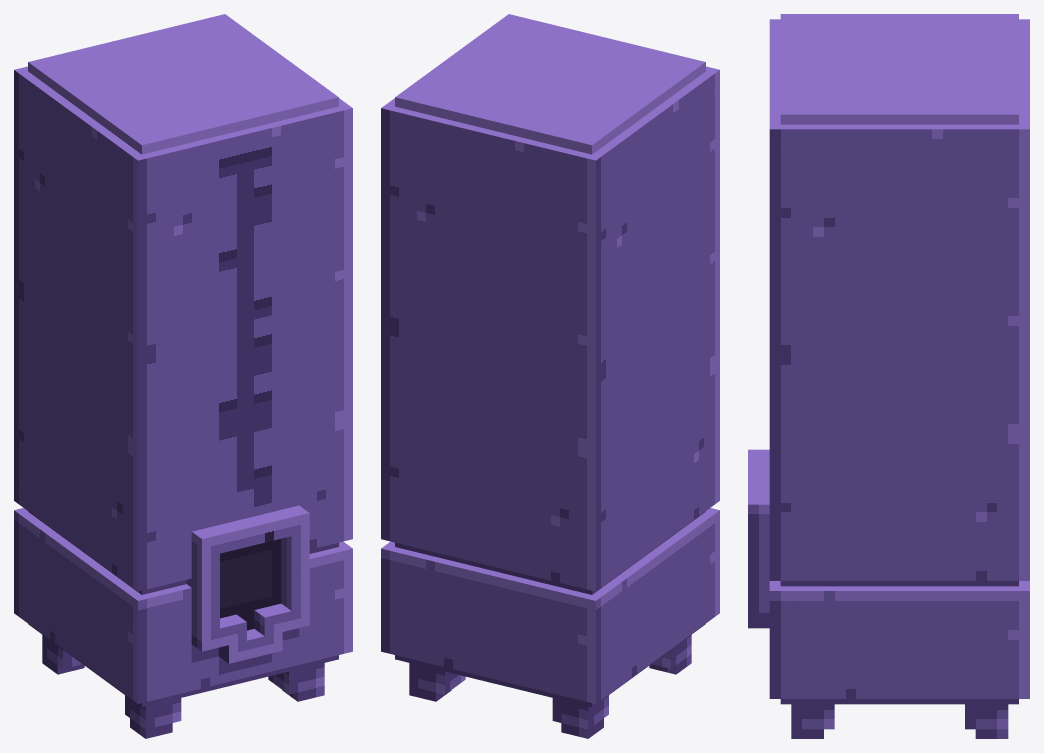
The model's file is sentinel_wallao.fezao.glb.
3 renders of one model, left to right at view 1: azimuth 30°, elevation 25°; view 2: azimuth 150°, elevation 25°; view 3: azimuth 270°, elevation 25°, orthographic. The views are drawn at different scales.
Visible parts, largest first — view 1: SENTINEL_WALLAO; view 2: SENTINEL_WALLAO; view 3: SENTINEL_WALLAO.
Part boxes in pixels (x1,y1,x2,y2): SENTINEL_WALLAO: (14, 14, 352, 738); SENTINEL_WALLAO: (381, 14, 719, 738); SENTINEL_WALLAO: (748, 14, 1029, 738).
Size of the model in its own units: 1.5 by 4 by 1.62.
1 material, 1 textured.
